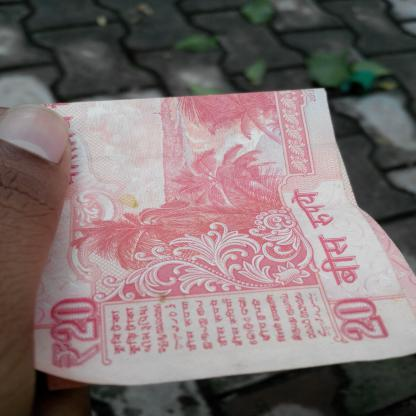Old20Back: (16, 105, 408, 373)
